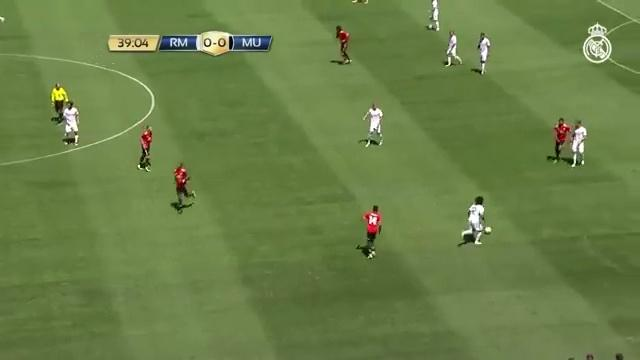football: (484, 226, 491, 234)
player: (356, 205, 381, 258), (461, 196, 484, 244), (174, 163, 195, 212), (363, 103, 383, 146), (553, 118, 571, 162), (571, 121, 587, 166), (62, 101, 78, 145), (137, 125, 152, 171), (446, 31, 462, 67), (336, 25, 350, 63), (478, 33, 490, 74), (429, 0, 439, 30), (352, 0, 368, 3), (0, 16, 4, 22)
referee: (51, 84, 67, 121)
